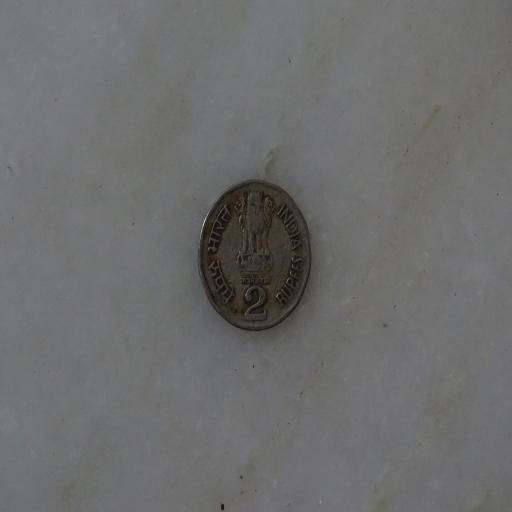rupee2: (197, 178, 313, 330)
